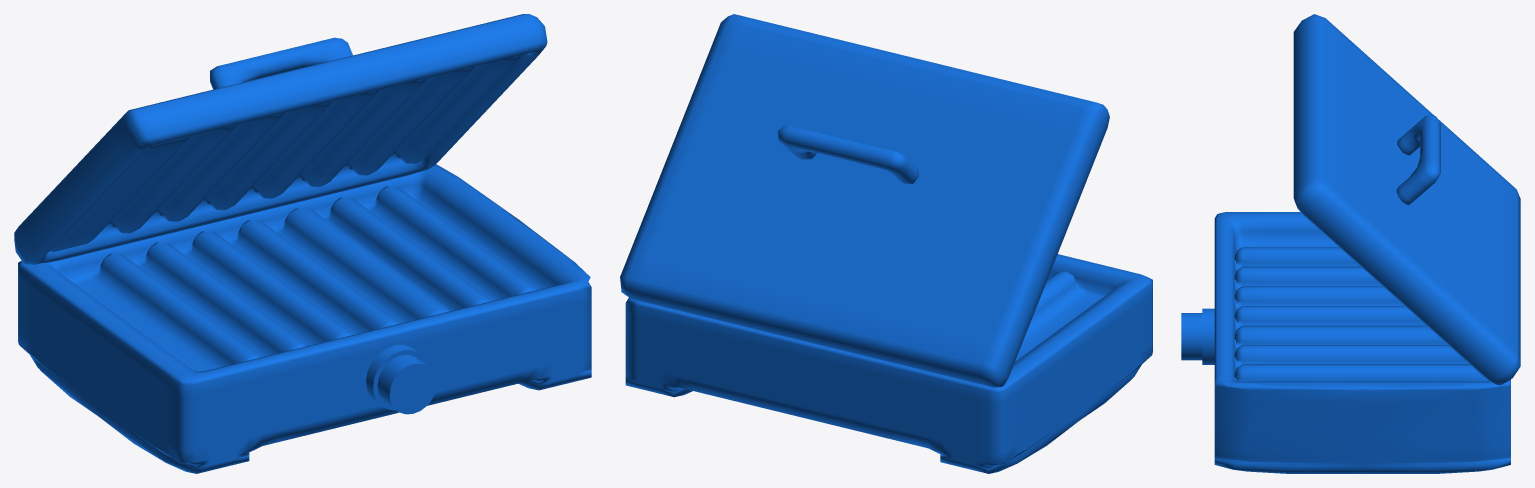
Rendered from grill4.fbx.
The picture shows the model from 3 angles, left to right: view 1: azimuth 30°, elevation 25°; view 2: azimuth 150°, elevation 25°; view 3: azimuth 270°, elevation 25°; orthographic projection. The views are drawn at different scales.
Visible parts, largest first — view 1: pCube1, pCube2, pCube3, pCylinder2, pCylinder1; view 2: pCube2, pCube1, pCube3; view 3: pCube1, pCube2, pCube3, pCylinder2, pCylinder1.
Boxes of the visible parts, x1=… form: pCube1: x1=18, y1=164, x2=591, y2=473; pCube2: x1=14, y1=14, x2=547, y2=264; pCube3: x1=210, y1=37, x2=352, y2=89; pCylinder2: x1=377, y1=354, x2=436, y2=414; pCylinder1: x1=366, y1=344, x2=428, y2=410; pCube2: x1=620, y1=14, x2=1109, y2=387; pCube1: x1=625, y1=254, x2=1152, y2=473; pCube3: x1=777, y1=125, x2=918, y2=184; pCube1: x1=1214, y1=212, x2=1510, y2=473; pCube2: x1=1293, y1=14, x2=1520, y2=386; pCube3: x1=1396, y1=115, x2=1440, y2=205; pCylinder2: x1=1181, y1=313, x2=1202, y2=360; pCylinder1: x1=1202, y1=308, x2=1214, y2=364.
Bounding box in the file's own units: 5.1 × 3.82 × 4.08.
